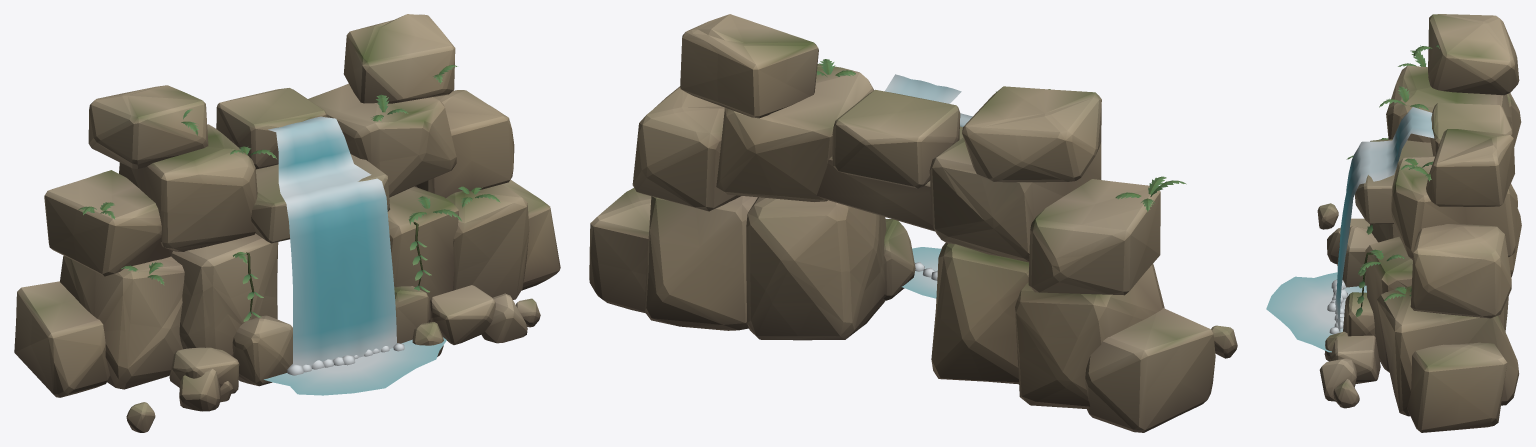
Rendered from waterfall.glb.
The picture shows the model from 3 angles, left to right: view 1: azimuth 30°, elevation 25°; view 2: azimuth 150°, elevation 25°; view 3: azimuth 270°, elevation 25°; orthographic projection. The views are drawn at different scales.
Parts seen in each view (by area): view 1: cliff_0__matte, water_0__matte, foam_0__matte, cliff_0__foliage; view 2: cliff_0__matte, water_0__matte, foam_0__matte, cliff_0__foliage; view 3: cliff_0__matte, foam_0__matte, water_0__matte, cliff_0__foliage.
Part boxes in pixels (x1,y1,x2,y2): cliff_0__matte: (14,14,560,432); water_0__matte: (268,116,396,368); foam_0__matte: (264,337,446,395); cliff_0__foliage: (78,65,500,321); cliff_0__matte: (589,14,1237,432); water_0__matte: (885,74,972,126); foam_0__matte: (902,247,941,298); cliff_0__foliage: (816,59,1186,212); cliff_0__matte: (1317,14,1521,432); foam_0__matte: (1266,272,1366,352); water_0__matte: (1335,107,1434,331); cliff_0__foliage: (1346,45,1439,317).
Bounding box in the file's own units: 14.77 × 7.22 × 6.92.
